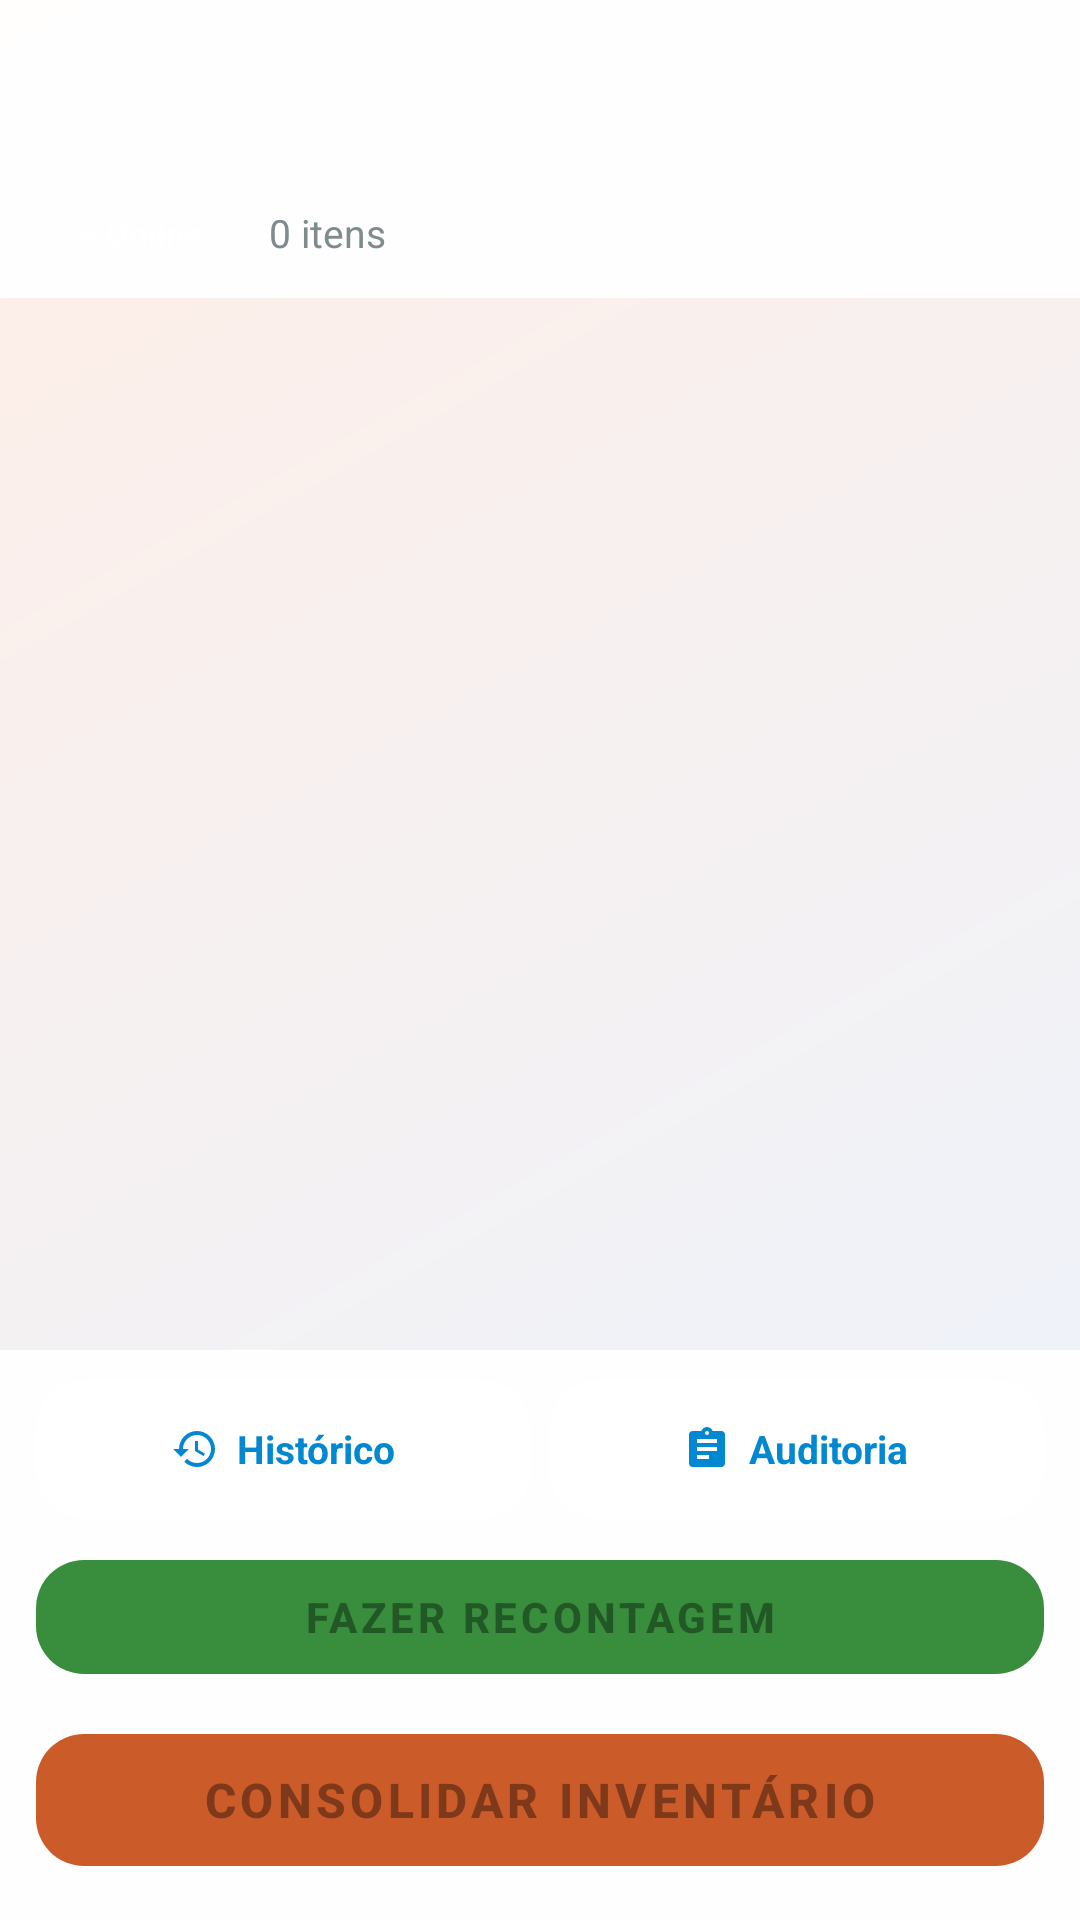

Icon bounding boxes for this 1080w x 1920h phone screenshot, format [x1=x1, y1=y1, x2=x2, y2=y2]:
history: [x1=173, y1=1431, x2=215, y2=1467]
report: [x1=689, y1=1427, x2=725, y2=1467]
